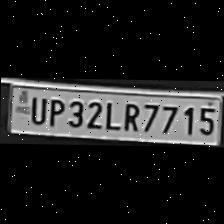1: (177, 102, 195, 135)
2: (83, 99, 103, 128)
3: (64, 98, 84, 128)
5: (194, 102, 214, 135)
7: (156, 102, 178, 134), (140, 100, 158, 132)
L: (100, 98, 119, 130)
P: (44, 96, 64, 126)
R: (120, 100, 140, 132)
U: (26, 94, 46, 124)
